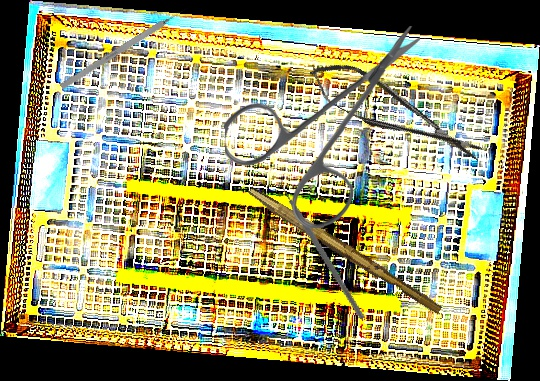Chopper: (241, 171, 407, 320)
Hook Surgical: (59, 5, 190, 90)
Iris Scissors: (222, 25, 424, 230)
Micro Scissor: (302, 48, 489, 180)
Scalpel Handle: (243, 186, 446, 316)
